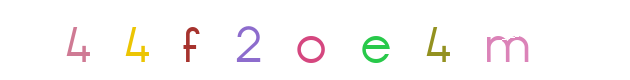2: (208, 0, 288, 80)
4: (96, 0, 176, 80), (149, 0, 229, 80), (378, 0, 458, 80)
E: (335, 0, 415, 80)
F: (172, 0, 252, 80)
M: (397, 0, 477, 80)
O: (275, 0, 355, 80)
